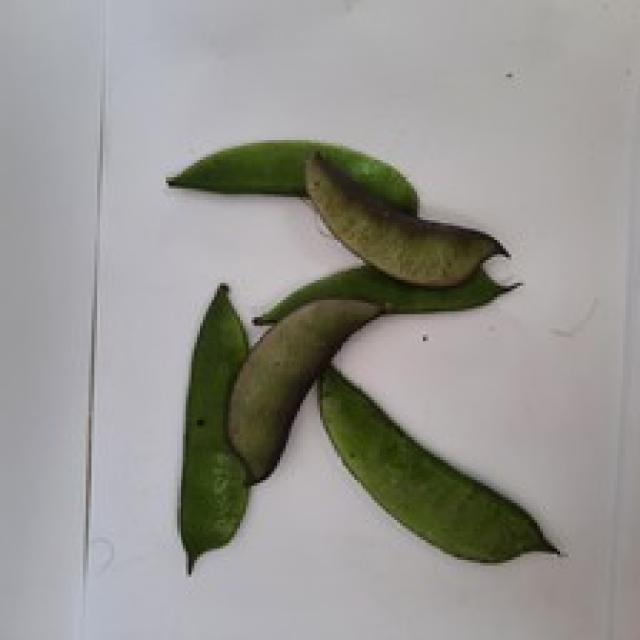Bean: (314, 360, 563, 563), (226, 294, 386, 483), (300, 148, 509, 288), (177, 280, 249, 571), (163, 137, 417, 212), (251, 263, 520, 323)
